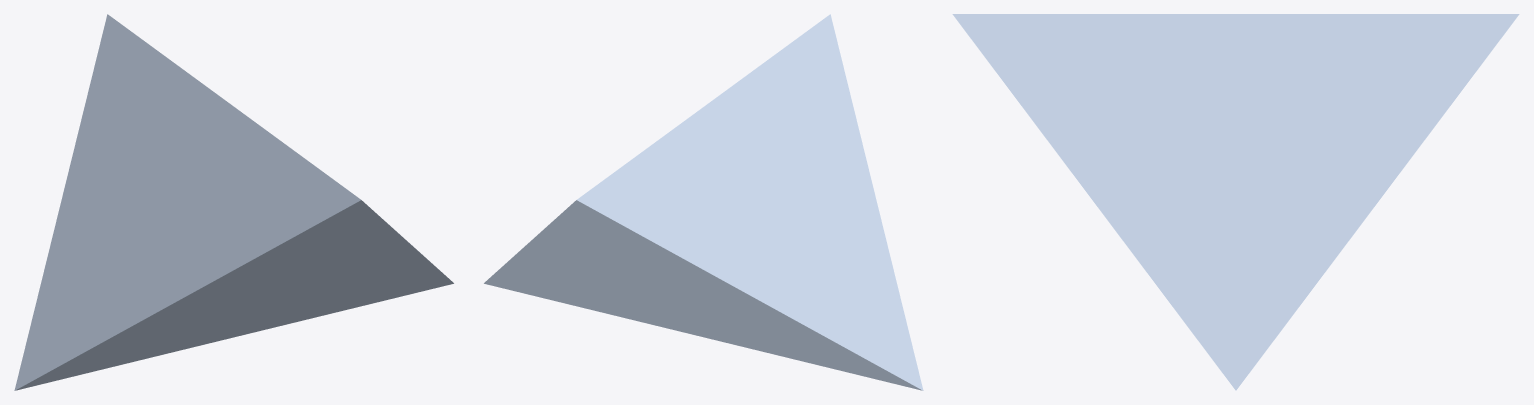
Rendered from TetragonalDisphenoidal_1_1.glb.
The picture shows the model from 3 angles, left to right: view 1: azimuth 30°, elevation 25°; view 2: azimuth 150°, elevation 25°; view 3: azimuth 270°, elevation 25°; orthographic projection. The views are drawn at different scales.
Size of the model in its own units: 4 by 2 by 4.
